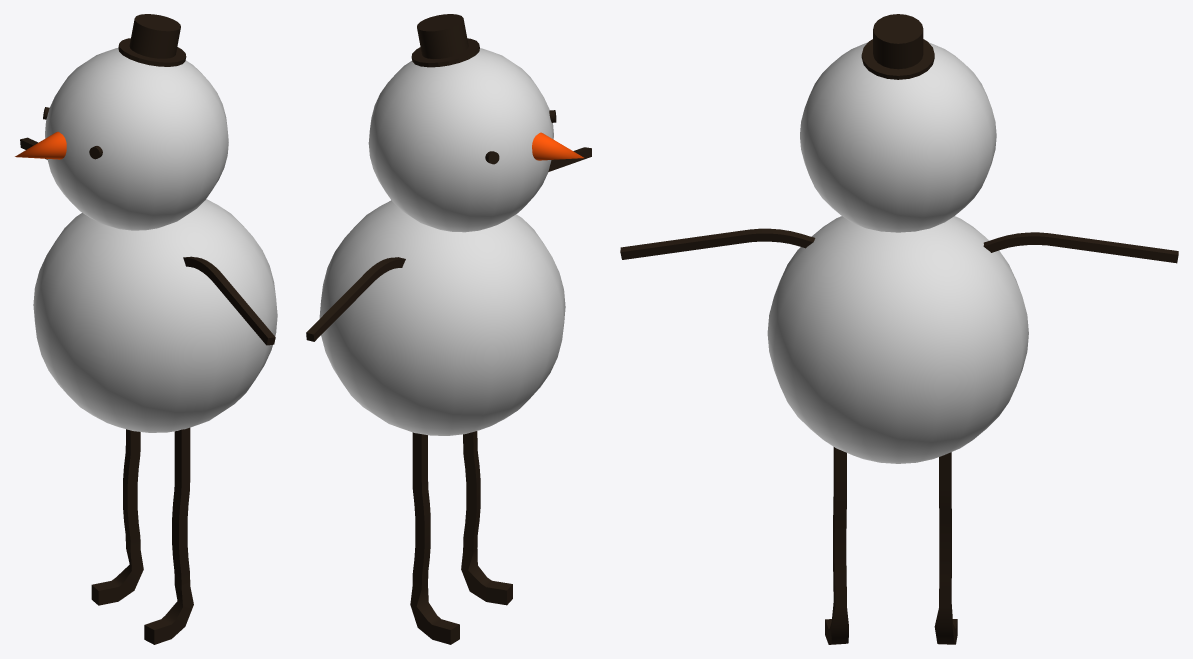
The model's file is snowman 1.fbx.
The picture shows the model from 3 angles, left to right: view 1: azimuth 30°, elevation 25°; view 2: azimuth 150°, elevation 25°; view 3: azimuth 270°, elevation 25°; orthographic projection. The views are drawn at different scales.
Parts seen in each view (by area): view 1: snowman; view 2: snowman; view 3: snowman.
Boxes of the visible parts, box(x1,y1,x2,y2) form: snowman: box(15, 14, 277, 644); snowman: box(306, 14, 591, 644); snowman: box(620, 14, 1178, 644).
Size of the model in its own units: 45.75 by 105 by 83.95.
